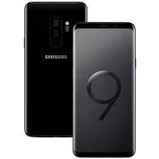samsung: (70, 19, 137, 159), (22, 1, 89, 139)
